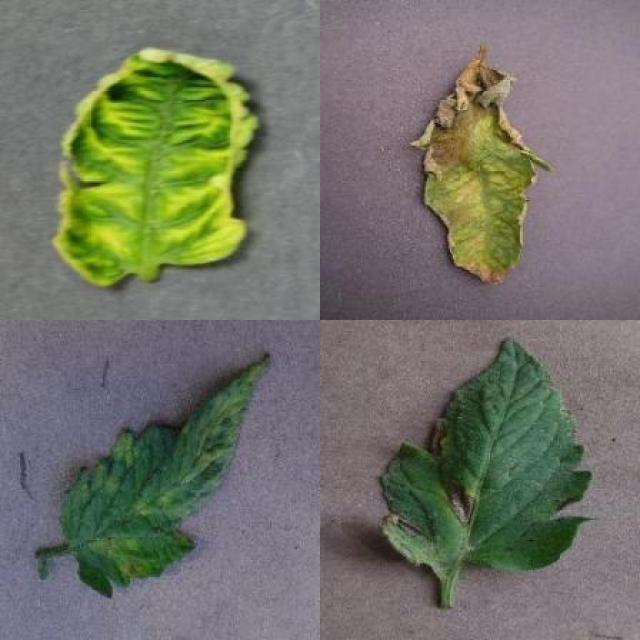Early Blight: (378, 339, 592, 574)
Late Blight: (408, 62, 552, 288)
Leaf Mold: (64, 349, 270, 602)
Yellow Leaf Curl Virus: (53, 47, 260, 287)
